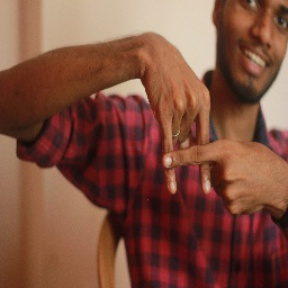H: (134, 83, 250, 199)
